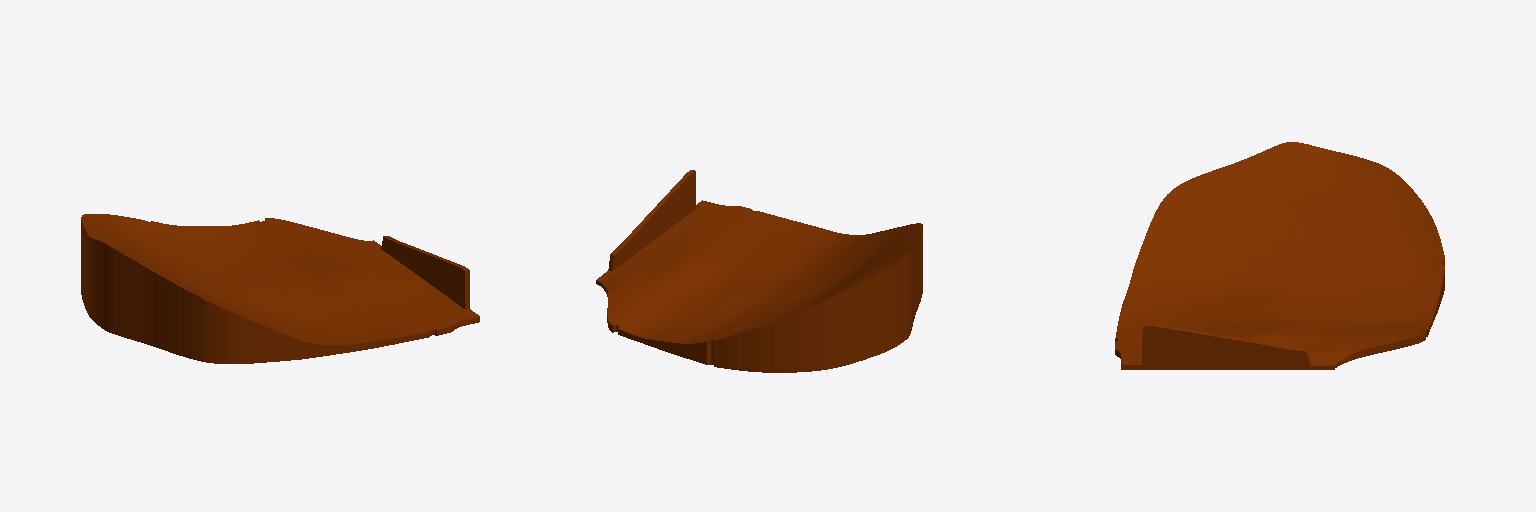
File: FaceCover.obj
3 views of the same model, side by side, from view 1: azimuth 30°, elevation 25°; view 2: azimuth 150°, elevation 25°; view 3: azimuth 270°, elevation 25° (orthographic).
Visible parts, largest first — view 1: Plane005; view 2: Plane005; view 3: Plane005.
Part boxes in pixels (x1,y1,x2,y2): Plane005: (81, 214, 479, 363); Plane005: (596, 170, 922, 372); Plane005: (1115, 142, 1444, 369).
Bounding box in the file's own units: 78.62 × 22.47 × 77.62.